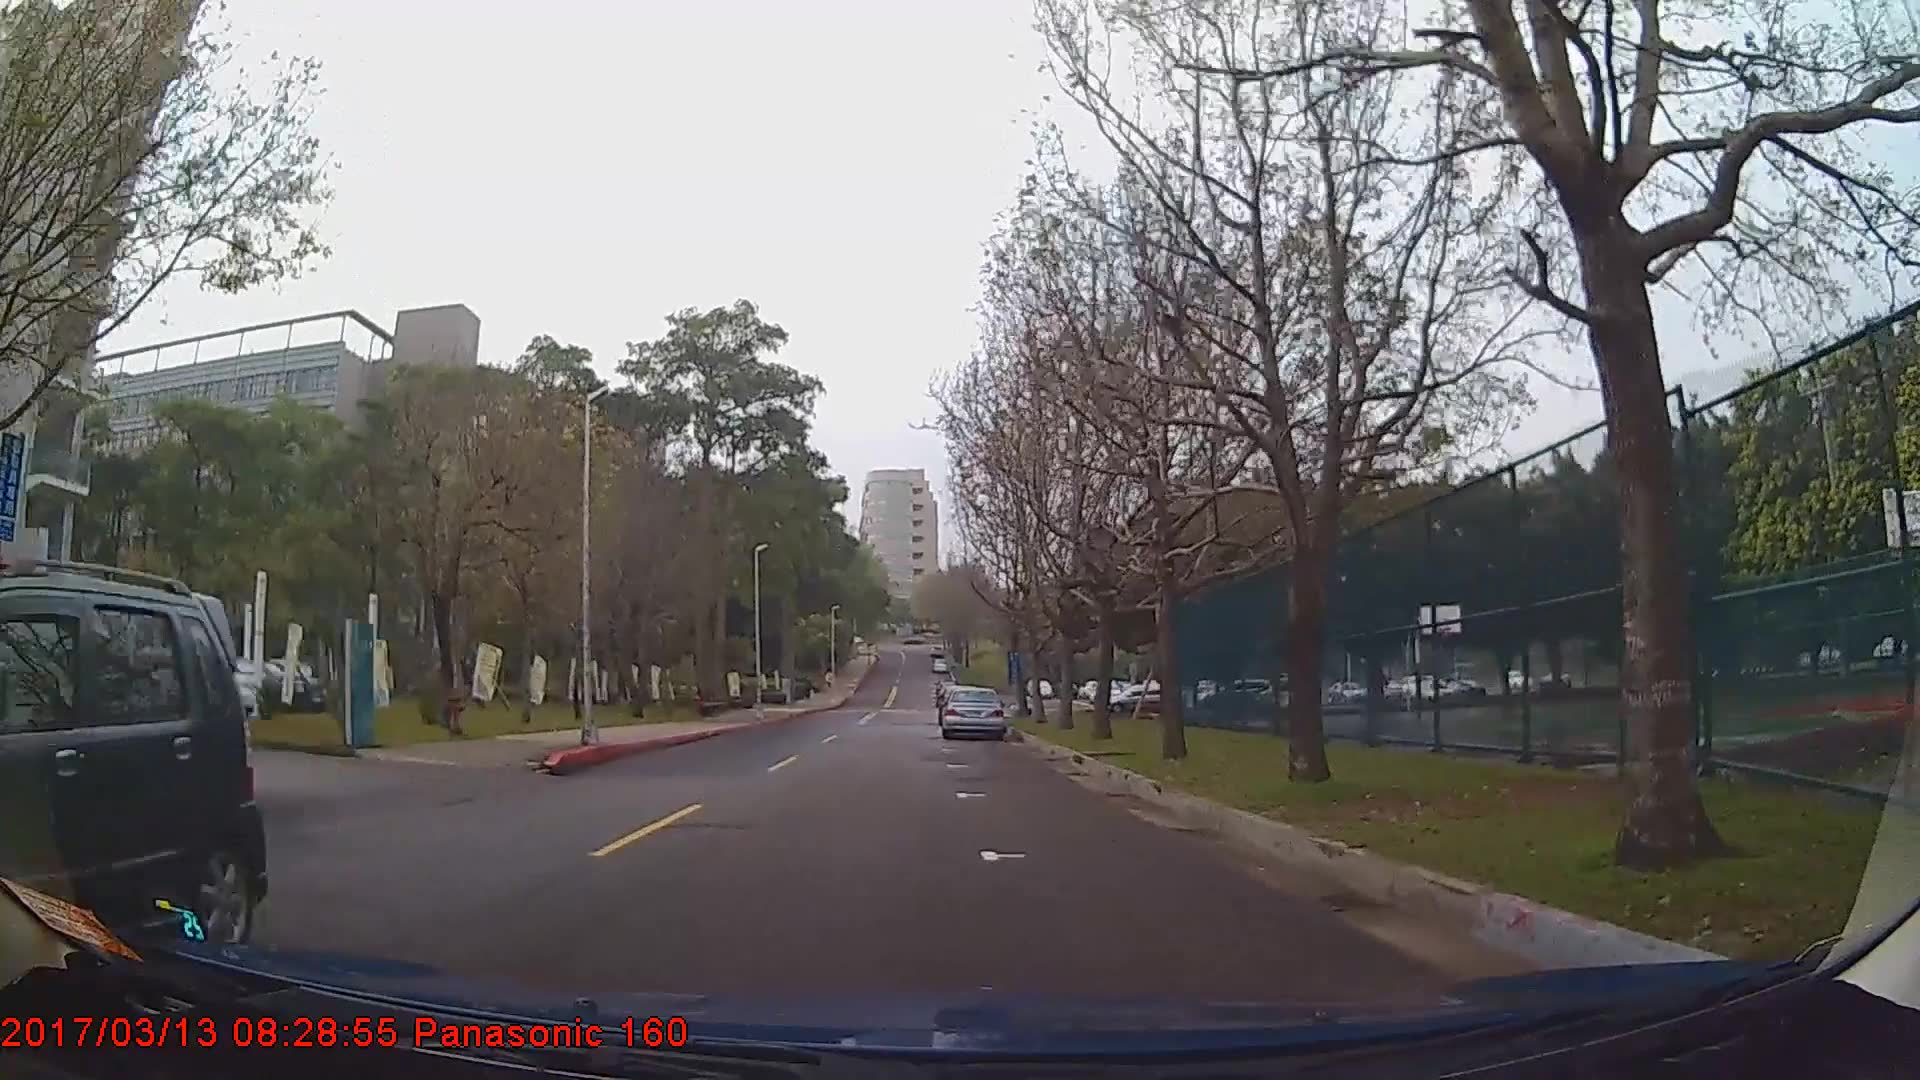vehicle: (0, 564, 261, 965), (938, 684, 1005, 741)
